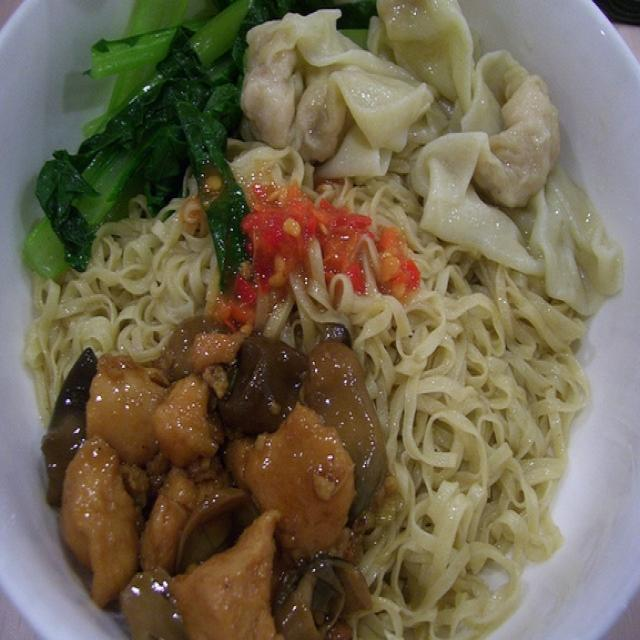面条主食: (23, 15, 609, 604)
